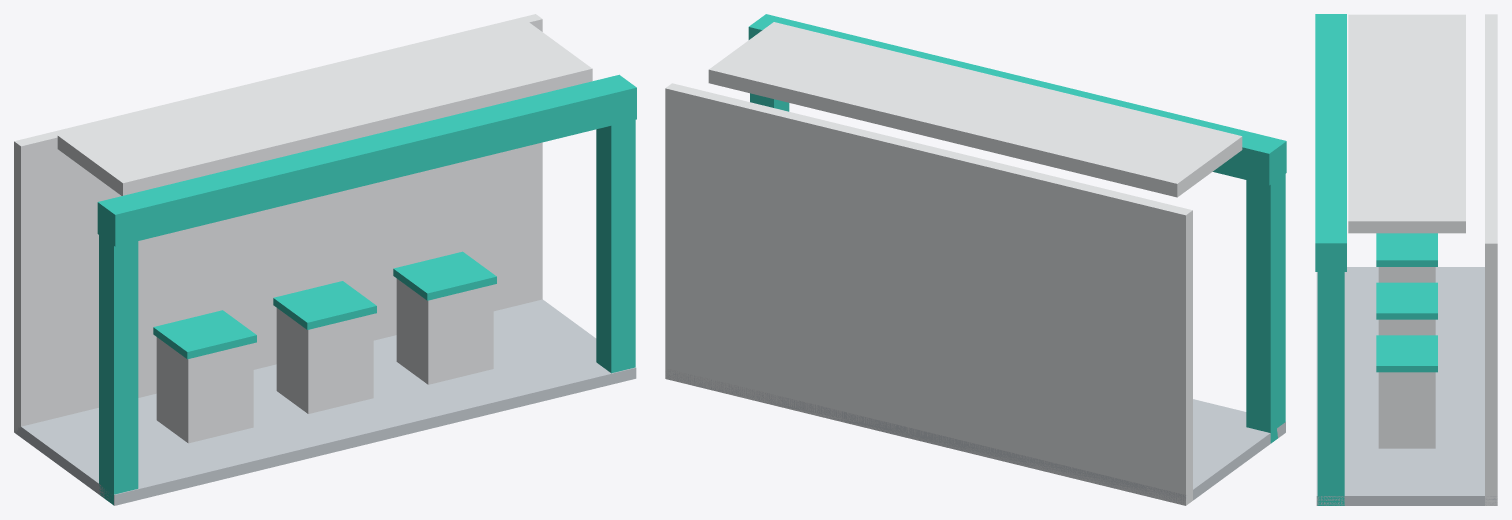
3 renders of one model, left to right at view 1: azimuth 30°, elevation 25°; view 2: azimuth 150°, elevation 25°; view 3: azimuth 270°, elevation 25°, orthographic. The views are drawn at different scales.
Visible parts, largest first — view 1: Exhibition Booth Concept; view 2: Exhibition Booth Concept; view 3: Exhibition Booth Concept.
Boxes of the visible parts, x1=… form: Exhibition Booth Concept: x1=14, y1=14, x2=636, y2=505; Exhibition Booth Concept: x1=665, y1=14, x2=1286, y2=505; Exhibition Booth Concept: x1=1315, y1=14, x2=1497, y2=505.
Bounding box in the file's own units: 6 × 3.34 × 2.01.
